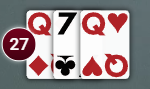7: (53, 10, 81, 38)
q: (25, 10, 53, 38), (80, 10, 107, 38)
